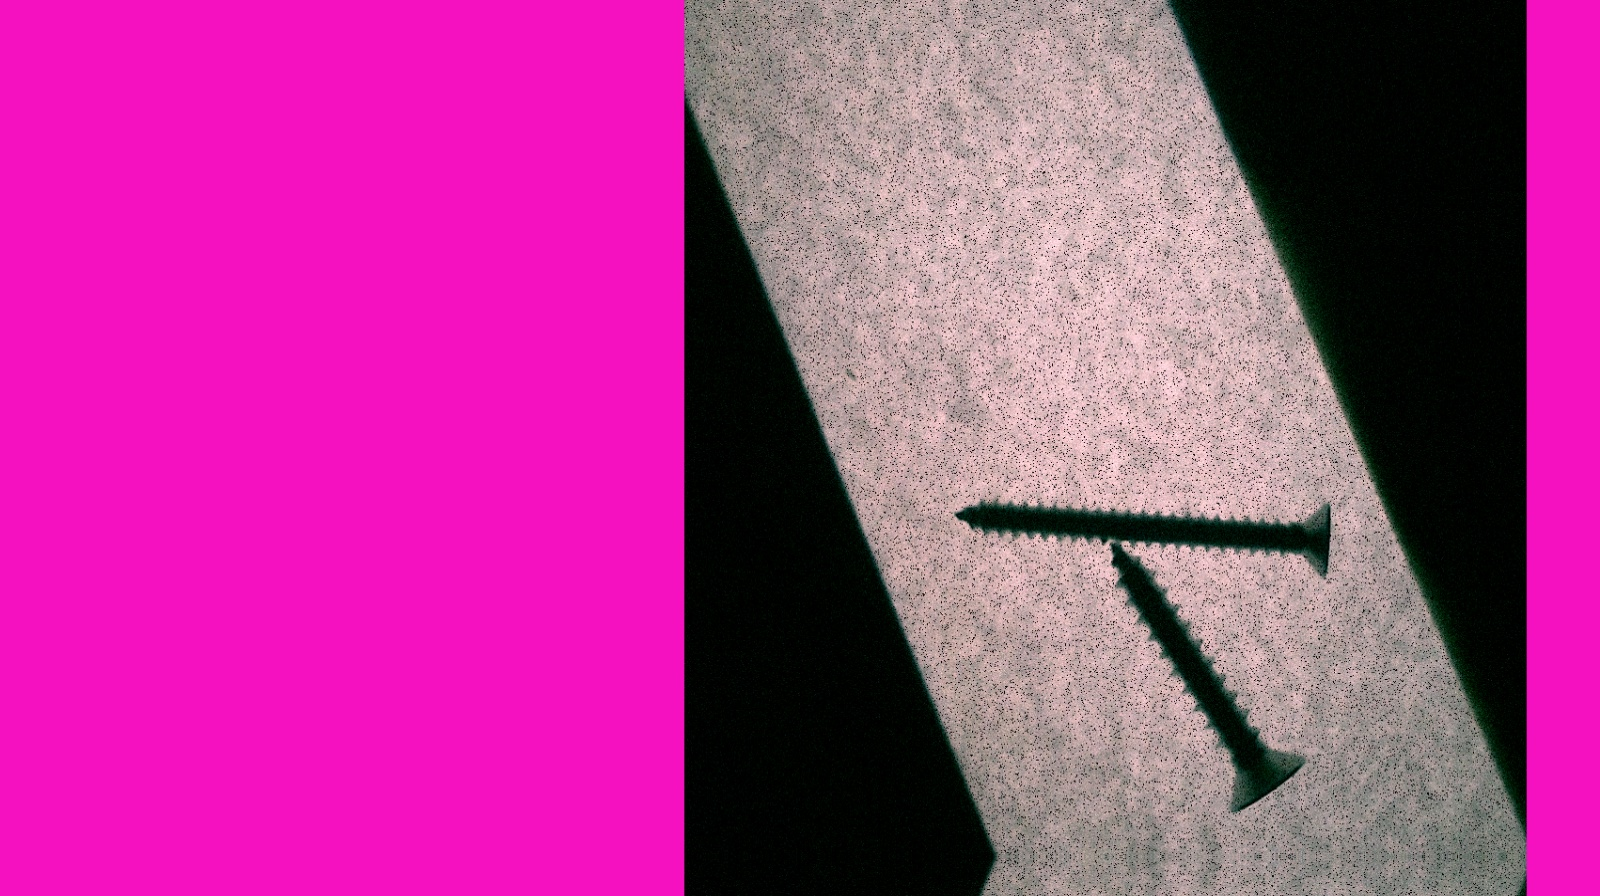S001: (1102, 533, 1311, 831)
S002: (938, 493, 1335, 580)
